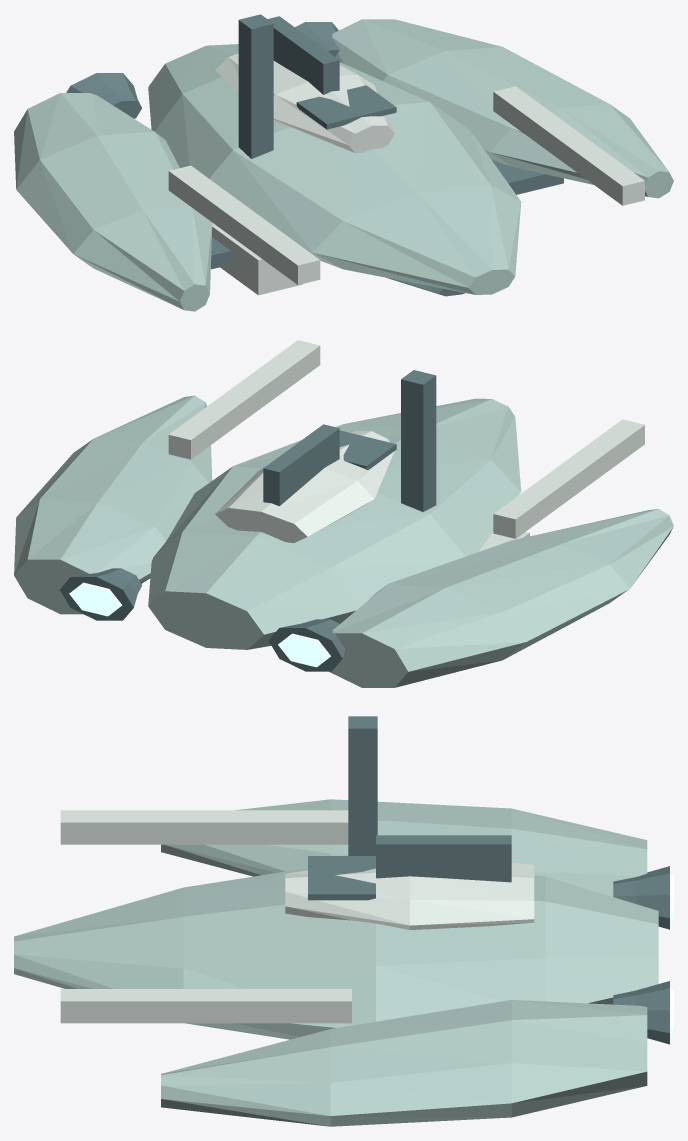
The picture shows the model from 3 angles, top to bottom: view 1: azimuth 30°, elevation 25°; view 2: azimuth 150°, elevation 25°; view 3: azimuth 270°, elevation 25°; orthographic projection. The views are drawn at different scales.
Size of the model in its own units: 11.93 by 4.54 by 10.87.
